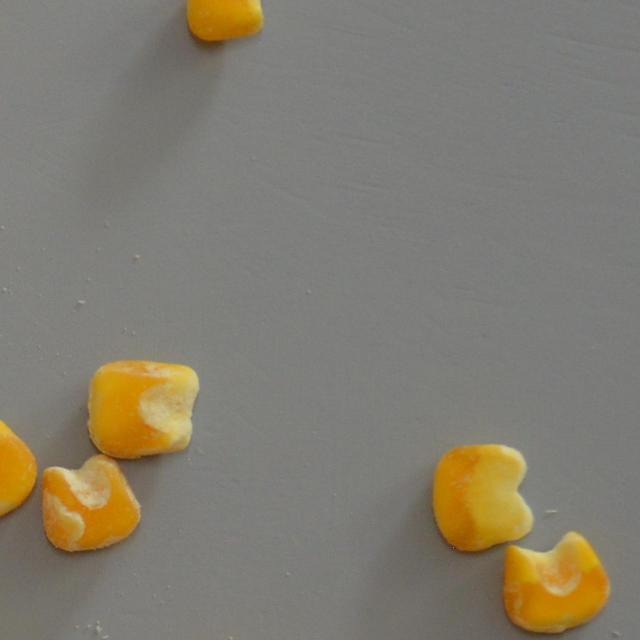no_canjicado: (430, 443, 534, 550), (0, 412, 35, 527), (186, 0, 264, 42)
pelicula: (84, 358, 200, 457), (500, 531, 610, 632), (40, 452, 141, 554)
